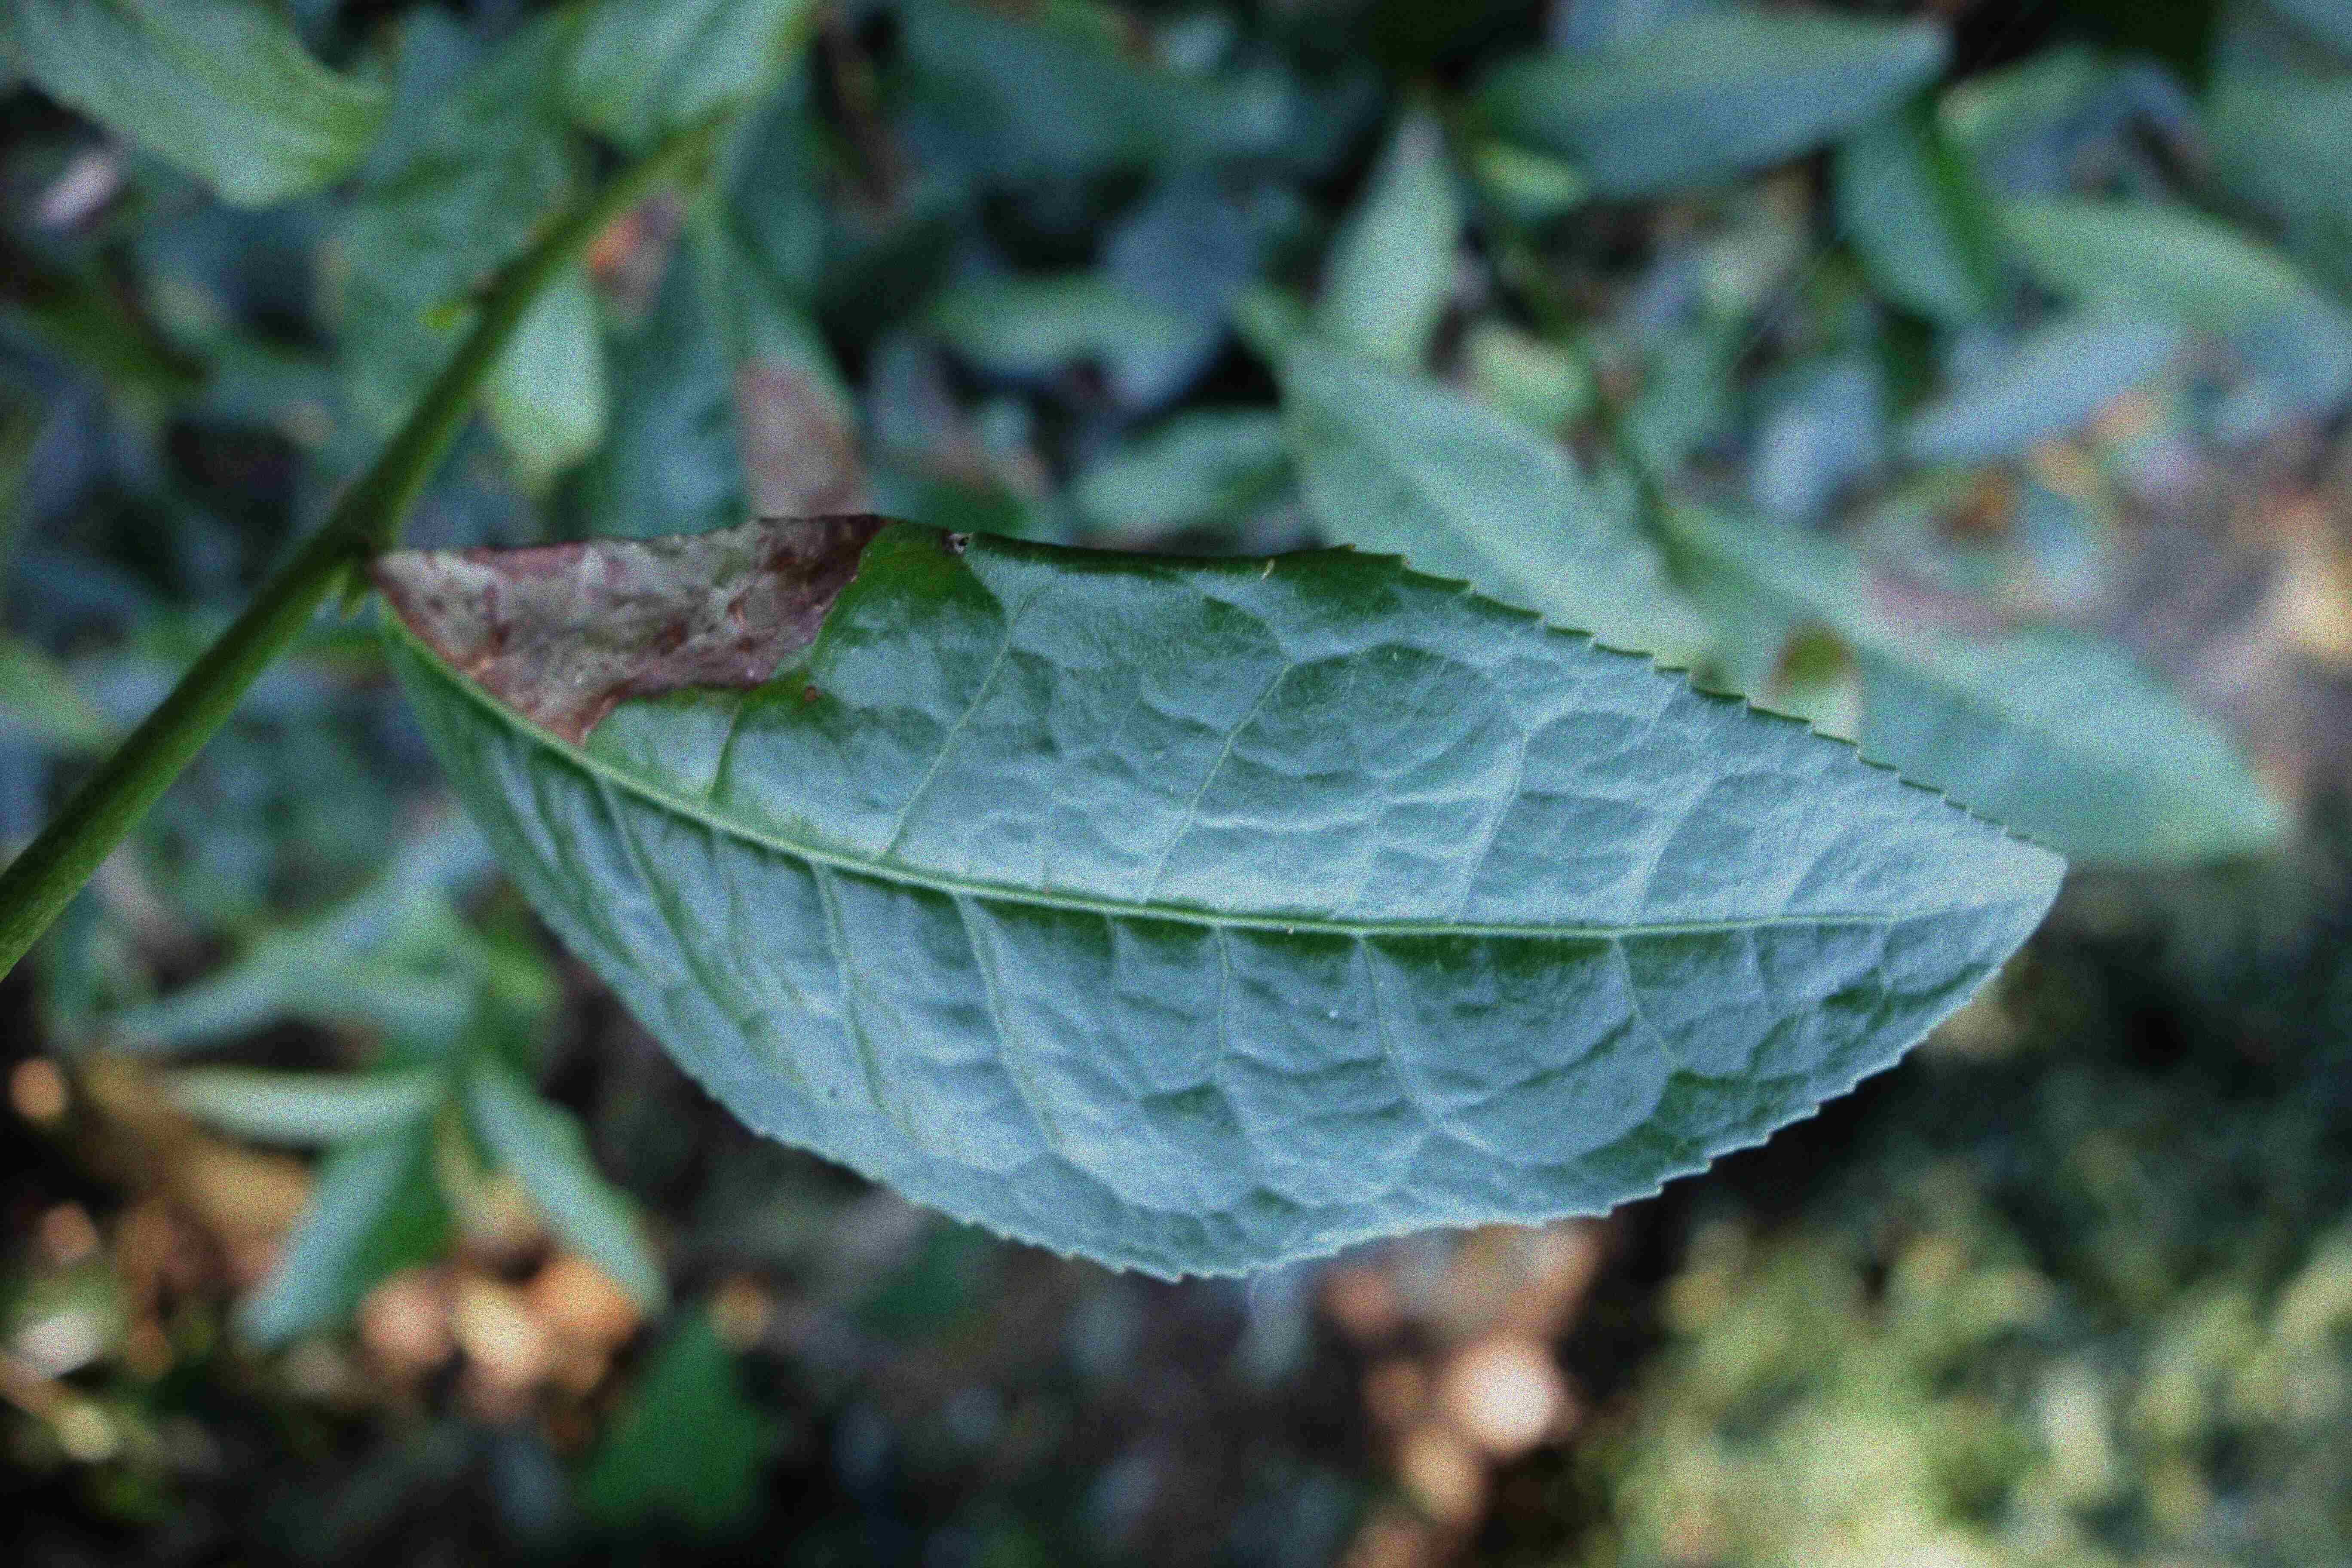tanju_high: (362, 514, 2072, 1288)
